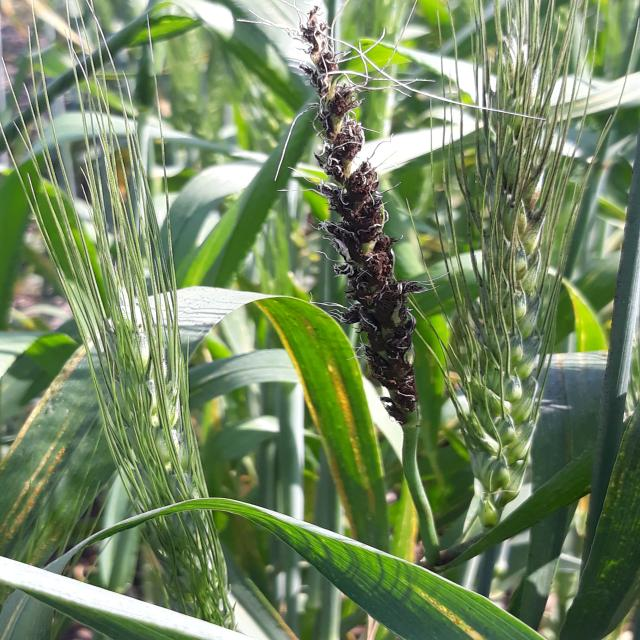loose_charred: (258, 0, 452, 465)
yellow_rust: (225, 292, 382, 504), (0, 345, 122, 563)
